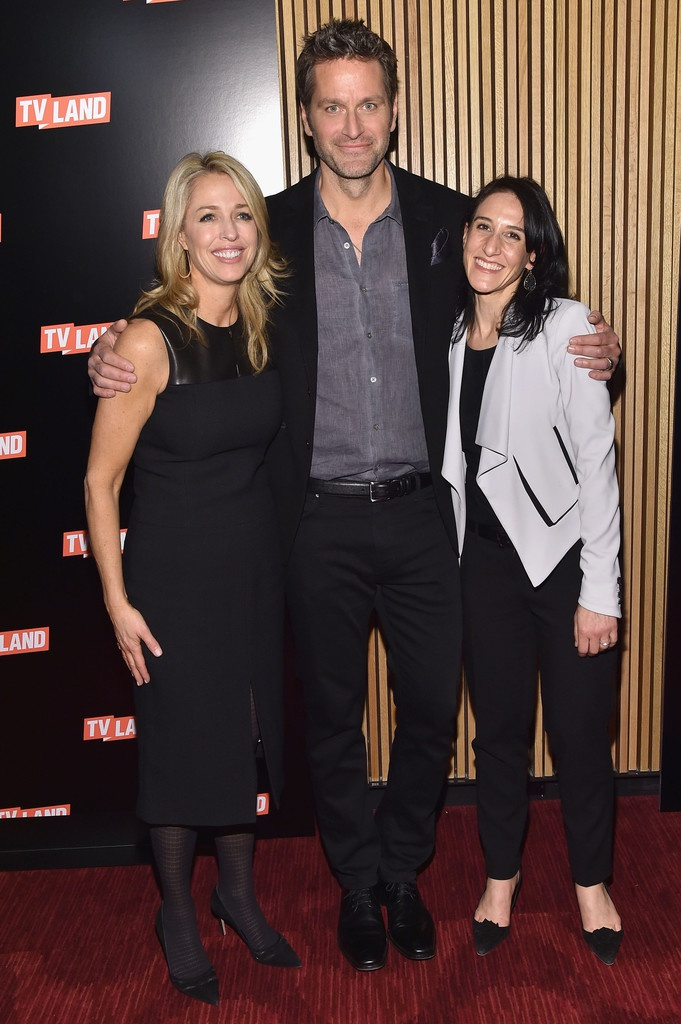bad: (305, 86, 394, 176), (187, 196, 262, 271), (453, 213, 527, 287)
